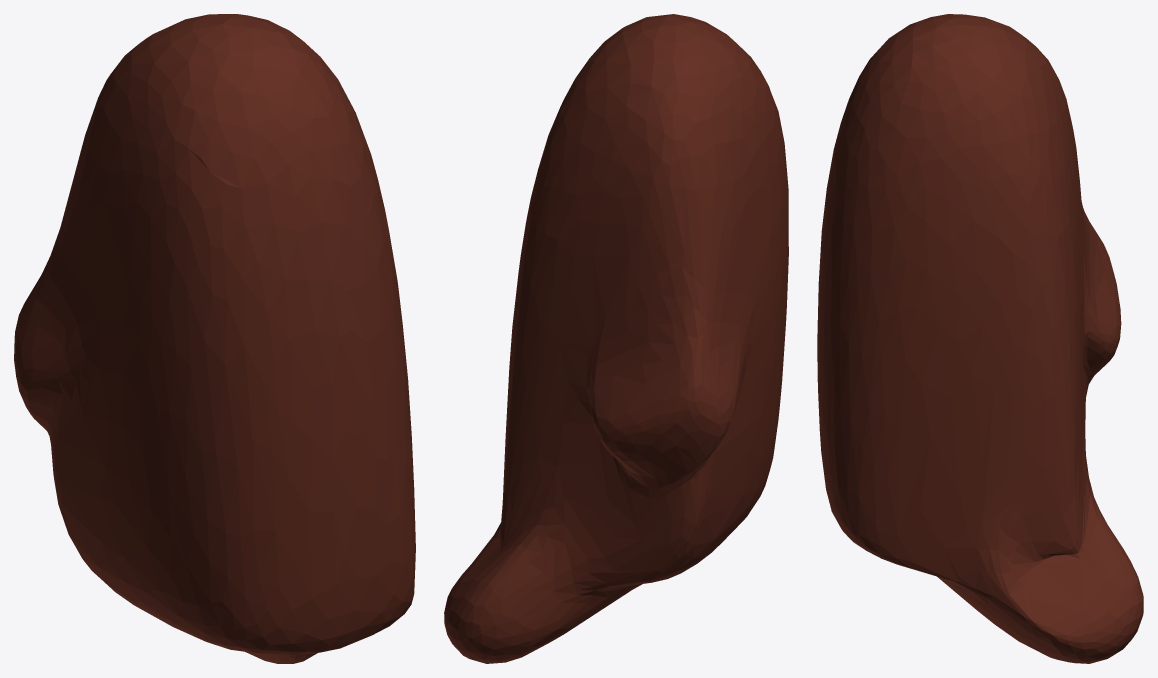
3 views of the same model, side by side, from view 1: azimuth 30°, elevation 25°; view 2: azimuth 150°, elevation 25°; view 3: azimuth 270°, elevation 25° (orthographic). The views are drawn at different scales.
Parts seen in each view (by area): view 1: 674_Cube.2708; view 2: 674_Cube.2708; view 3: 674_Cube.2708.
Part boxes in pixels (box(x1,y1,x2,y2)): 674_Cube.2708: box(14, 14, 415, 663); 674_Cube.2708: box(444, 14, 788, 663); 674_Cube.2708: box(817, 14, 1143, 663).
Size of the model in its own units: 6.45 by 13.49 by 6.8.
